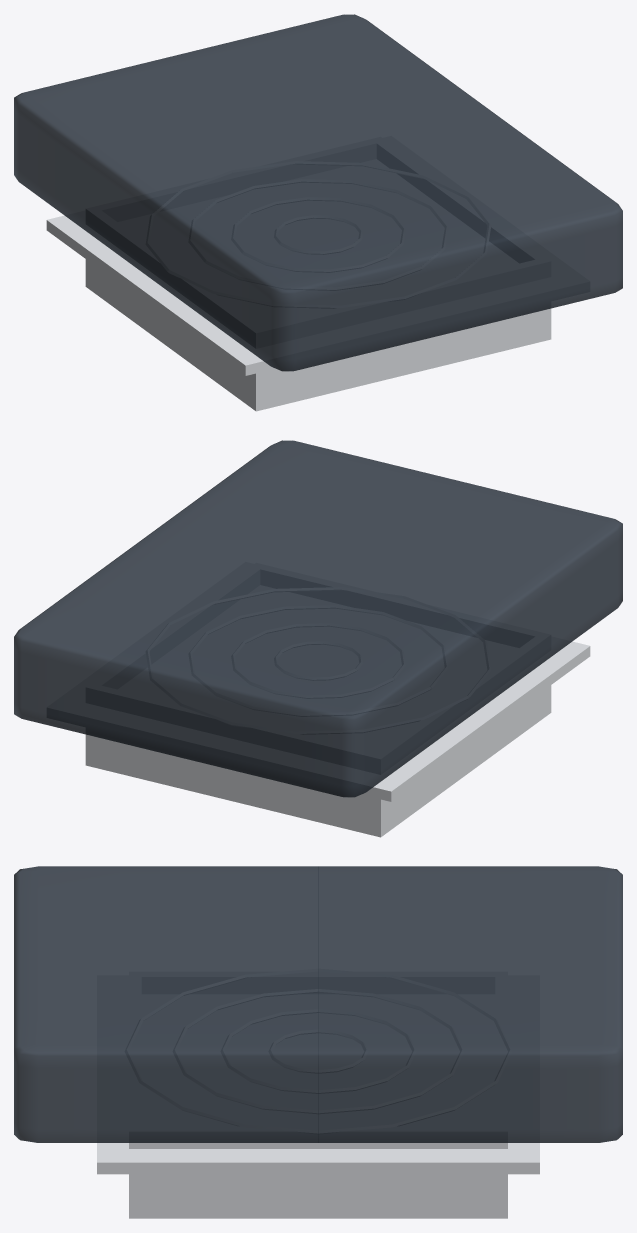
File: roof_fan_maxxair_7500k.mid.glb
The picture shows the model from 3 angles, top to bottom: view 1: azimuth 30°, elevation 25°; view 2: azimuth 150°, elevation 25°; view 3: azimuth 270°, elevation 25°; orthographic projection. The views are drawn at different scales.
Parts seen in each view (by area): view 1: lid, roof_fan_maxxair_7500k; view 2: lid, roof_fan_maxxair_7500k; view 3: lid, roof_fan_maxxair_7500k.
Part boxes in pixels (left/top/right/bottom): lid: left=14, top=14, right=622, bottom=371; roof_fan_maxxair_7500k: left=46, top=138, right=589, bottom=411; lid: left=14, top=440, right=622, bottom=797; roof_fan_maxxair_7500k: left=47, top=562, right=590, bottom=837; lid: left=14, top=866, right=622, bottom=1142; roof_fan_maxxair_7500k: left=97, top=969, right=539, bottom=1218.
Bounding box in the file's own units: 0.4191 × 0.187 × 0.5715.
